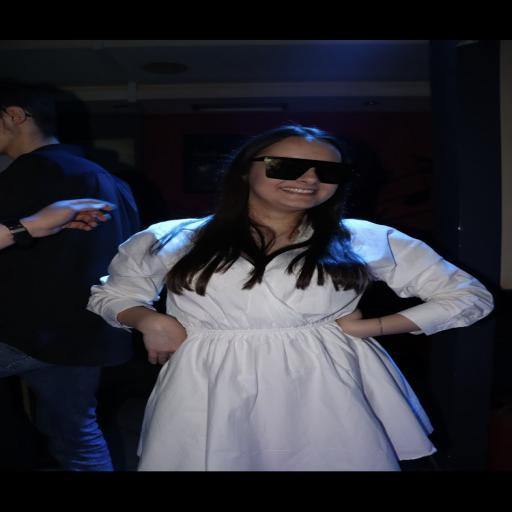marija: (260, 132, 342, 211)
